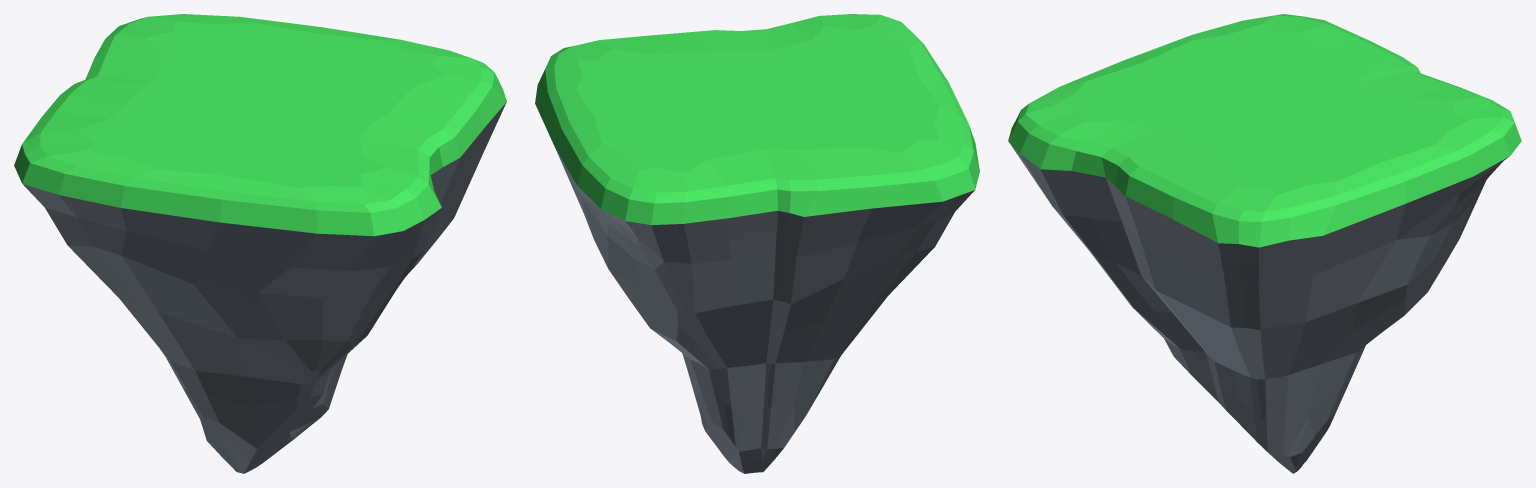
File: testmodelsisland_Cube_001__1_.fbx
The picture shows the model from 3 angles, left to right: view 1: azimuth 30°, elevation 25°; view 2: azimuth 150°, elevation 25°; view 3: azimuth 270°, elevation 25°; orthographic projection. The views are drawn at different scales.
Parts seen in each view (by area): view 1: island_Cube_001__1_; view 2: island_Cube_001__1_; view 3: island_Cube_001__1_.
Part boxes in pixels (<box>): island_Cube_001__1_: <box>14,14,506,473</box>; island_Cube_001__1_: <box>535,14,979,473</box>; island_Cube_001__1_: <box>1008,14,1521,473</box>.
Bounding box in the file's own units: 3546 × 2745 × 3566.
